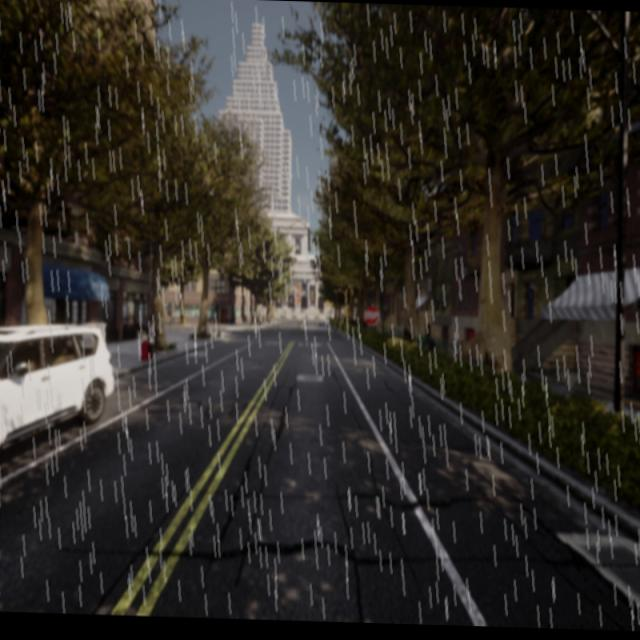stop sign: (361, 301, 381, 327)
